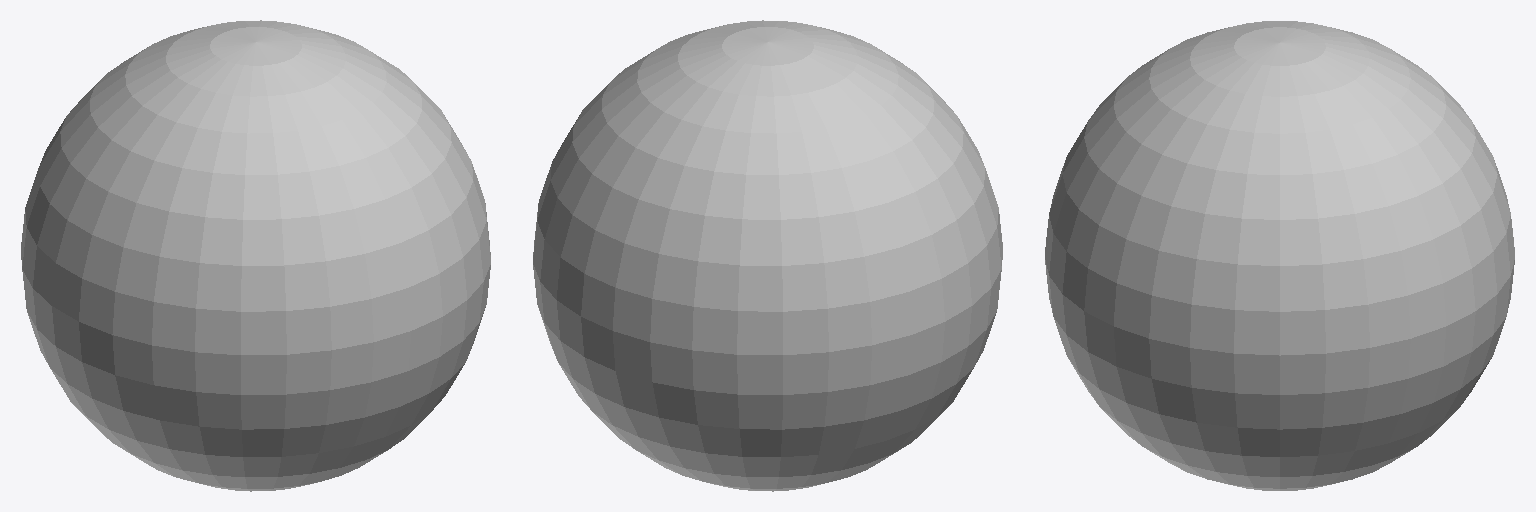
URDF robot description (pupper_arm):
<?xml version="1.0"?>
<!-- created with Phobos 1.0.1 "Capricious Choutengan" -->
  <robot name="pupper_arm">
    <link name="base">
      <inertial>
        <origin xyz="0 0 0" rpy="0 0 0"/>
        <mass value="0.200"/>
        <inertia ixx="1e-03" ixy="0" ixz="0" iyy="1e-03" iyz="0" izz="1e-03"/>
      </inertial>
      <visual name="Base">
        <origin xyz="0 0 -0.032" rpy="0 0 0"/>
        <geometry>
          <mesh filename="meshes/3dof_base.obj" scale="0.001 0.001 0.001"/>
        </geometry>
        <material name="PupperMaterial"/>
      </visual>
    </link>

    <link name="leftFrontLeg">
      <inertial>
        <origin xyz="0.0139 0.0254 0" rpy="0 0 0"/>
        <mass value="0.106"/>
        <inertia ixx="2e-05" ixy="0" ixz="0" iyy="6e-05" iyz="0" izz="6e-05"/>
      </inertial>
      <visual name="Hip_L">
        <origin xyz="0 0 0" rpy="0 0 0"/>
        <geometry>
          <mesh filename="meshes/Hip_L.obj" scale="1.0 1.0 1.0"/>
        </geometry>
        <material name="PupperMaterial"/>
      </visual>
      <collision name="Hip L">
        <origin xyz="0.0235 0.0265 0" rpy="1.5708 0 -1.5708"/>
        <geometry>
          <cylinder radius="0.015" length="0.075"/>
        </geometry>
      </collision>
    </link>

    <link name="leftFrontLowerLeg">
      <inertial>
        <origin xyz="0.00558 -0.00075 -0.0658" rpy="0 0 0"/>
        <mass value="0.038"/>
        <inertia ixx="0.00018" ixy="0" ixz="0" iyy="0.00018" iyz="0" izz="2e-05"/>
      </inertial>
      <visual name="Lower_Leg_L">
        <origin xyz="0 0 0" rpy="0 0 0"/>
        <geometry>
          <mesh filename="meshes/Lower_Leg_L.obj" scale="1.0 1.0 1.0"/>
        </geometry>
        <material name="PupperMaterial"/>
      </visual>
      <collision name="Lower Leg L">
        <origin xyz="0.00699 0 -0.05223" rpy="0 0 0"/>
        <geometry>
          <box size="0.00951 0.012 0.10758"/>
        </geometry>
      </collision>
    </link>

    <link name="leftFrontToe">
      <inertial>
        <origin xyz="0 0 0" rpy="0 0 0"/>
        <mass value="0.0001"/>
        <inertia ixx="2e-05" ixy="0" ixz="0" iyy="2e-05" iyz="0" izz="2e-05"/>
      </inertial>
      <visual>
        <origin rpy="0.00000 -0.00000 0.00000" xyz="0.00 0.00000 0.000"/>
        <geometry>
          <sphere radius="0.01"/>
        </geometry>
        <material name="gray">
          <color rgba=".80000 .800000 .800000 1.00000" />
        </material>
		  </visual>
      <collision name="Sphere.003">
        <origin xyz="0 0 0" rpy="0 0 0"/>
        <geometry>
          <sphere radius="0.0095"/>
        </geometry>
      </collision>
    </link>

    <link name="leftFrontUpperLeg">
      <inertial>
        <origin xyz="0.0172 0 -0.061" rpy="0 0 0"/>
        <mass value="0.142"/>
        <inertia ixx="0.00014" ixy="0" ixz="0" iyy="0.00016" iyz="0" izz="3e-05"/>
      </inertial>
      <visual name="Upper_Leg_-_Pupper_2.1_v57">
        <origin xyz="0 0 0" rpy="0 0 0"/>
        <geometry>
          <mesh filename="meshes/Upper_Leg_-_Pupper_2.1_v57.obj" scale="1.0 1.0 1.0"/>
        </geometry>
        <material name="PupperMaterial"/>
      </visual>
      <collision name="Upper Leg - Pupper 2.1 v57">
        <origin xyz="0.0169 0 -0.08" rpy="1.5708 0 1.5708"/>
        <geometry>
          <cylinder radius="0.015" length="0.065"/>
        </geometry>
      </collision>
    </link>

   

    <joint name="leftFrontLowerLegMotor" type="revolute">
      <origin xyz="-0.004 0 -0.08" rpy="0 0 3.14159"/>
      <parent link="leftFrontUpperLeg"/>
      <child link="leftFrontLowerLeg"/>
      <axis xyz="1.0 0 0"/>
      <limit lower="-10" upper="10" effort="0" velocity="0"/>
    </joint>

    <joint name="leftFrontToe" type="floating">
      <origin xyz="0.002 0 -0.11" rpy="0 0 -3.14159"/>
      <parent link="leftFrontLowerLeg"/>
      <child link="leftFrontToe"/>
    </joint>

    <joint name="leftFrontUpperLegMotor" type="revolute">
      <origin xyz="0.0395 0.0265 0" rpy="1.5708 0 0"/>
      <parent link="leftFrontLeg"/>
      <child link="leftFrontUpperLeg"/>
      <axis xyz="-1.0 0 0"/>
      <limit lower="-10" upper="10" effort="0" velocity="0"/>
    </joint>

    <joint name="baseMotor" type="revolute">
      <origin xyz="0 0 -0.025" rpy="1.5708 0 -1.5708"/>
      <parent link="base"/>
      <child link="leftFrontLeg"/>
      <axis xyz="0 1 0"/>
      <limit lower="-10" upper="10" effort="0" velocity="0"/>
    </joint>

    <material name="PupperMaterial">
      <color rgba="0.8 0.8 0.8 1.0"/>
    </material>

  </robot>

--- Render facts (derived) ---
3 views of the same robot in one strip: view 1: azimuth 30°, elevation 25°; view 2: azimuth 150°, elevation 25°; view 3: azimuth 270°, elevation 25° (orthographic).
Model pupper_arm with 5 links and 4 joints (3 revolute, 1 floating), rooted at base, posed every joint at zero.
Visible links, largest first — view 1: leftFrontToe; view 2: leftFrontToe; view 3: leftFrontToe.
Boxes of the visible links, x1,y1,x2,y2 form: leftFrontToe: (21,20,490,491); leftFrontToe: (533,20,1002,491); leftFrontToe: (1045,21,1514,490).
Bounding box of the posed robot: 0.02 × 0.02 × 0.02 m (x, y, z).
Meshes: 4 distinct files referenced, 0 mesh visuals loaded (none loaded); not drawn: 4 (reference not matched to a file when rendering).